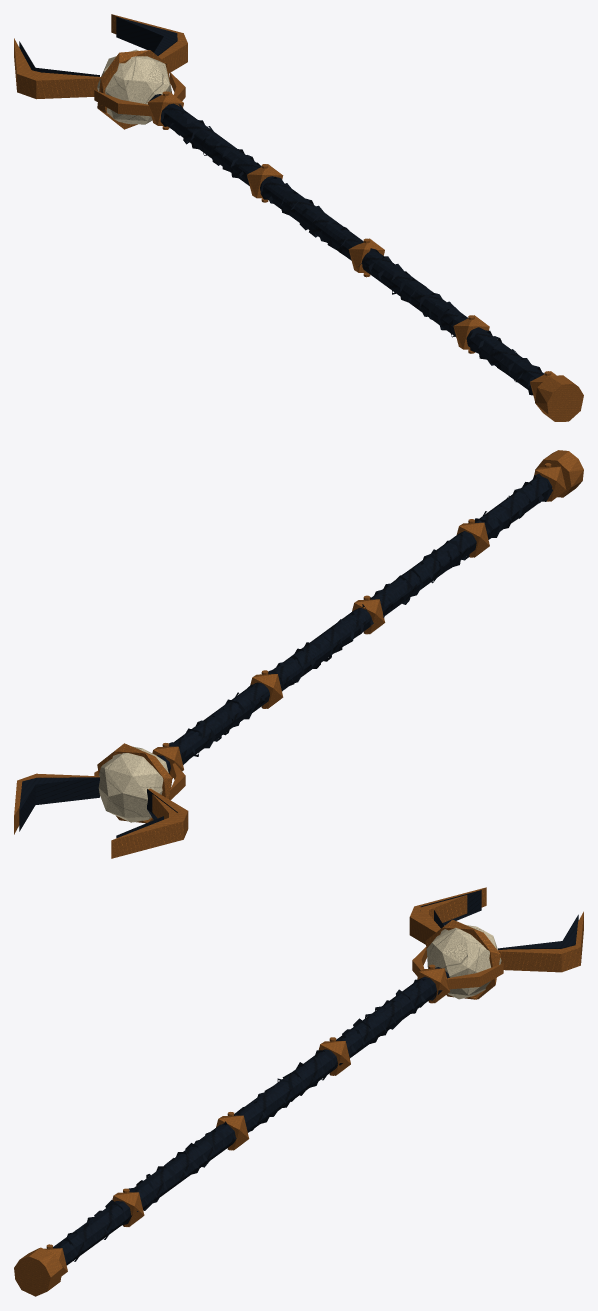
The model's file is storm-conductor-staff-ready-lod2.glb.
3 renders of one model, top to bottom at view 1: azimuth 30°, elevation 25°; view 2: azimuth 150°, elevation 25°; view 3: azimuth 330°, elevation 25°, orthographic.
Visible parts, largest first — view 1: Dark woven shaft grip, Ivory conductor pearl, Copper fork tine shell, Staff flared pommel, Dark fork tine inset.001, Copper fork tine shell.001, Orb equatorial copper cradle, Conductor cradle horn, Copper staff segmented ferrule.001, Copper staff segmented ferrule.003, Copper staff segmented ferrule.002, Copper staff segmented ferrule.004; view 2: Dark woven shaft grip, Ivory conductor pearl, Copper fork tine shell, Dark fork tine inset.001, Staff flared pommel, Orb equatorial copper cradle, Copper staff segmented ferrule.001, Copper staff segmented ferrule.003, Copper staff segmented ferrule, Copper staff segmented ferrule.002, Copper fork tine shell.001; view 3: Dark woven shaft grip, Ivory conductor pearl, Copper fork tine shell.001, Copper fork tine shell, Staff flared pommel, Orb equatorial copper cradle, Conductor cradle horn.001, Dark fork tine inset.001, Dark fork tine inset, Copper staff segmented ferrule.002, Copper staff segmented ferrule.003, Copper staff segmented ferrule.001 (+1 smaller).
Part boxes in pixels (x1,y1,x2,y2): Dark woven shaft grip: (148,94,544,392); Ivory conductor pearl: (97,49,171,124); Copper fork tine shell: (14,38,100,99); Staff flared pommel: (535,375,583,421); Dark fork tine inset.001: (116,17,177,55); Copper fork tine shell.001: (111,14,187,73); Orb equatorial copper cradle: (97,50,172,129); Conductor cradle horn: (94,90,151,116); Copper staff segmented ferrule.001: (453,315,489,349); Copper staff segmented ferrule.003: (247,164,283,198); Copper staff segmented ferrule.002: (348,238,384,273); Copper staff segmented ferrule.004: (147,91,183,125); Dark woven shaft grip: (157,476,552,773); Ivory conductor pearl: (98,746,168,822); Copper fork tine shell: (111,788,188,858); Dark fork tine inset.001: (19,777,99,831); Staff flared pommel: (535,450,583,497); Orb equatorial copper cradle: (97,743,172,823); Copper staff segmented ferrule.001: (456,522,489,557); Copper staff segmented ferrule.003: (250,674,283,708); Copper staff segmented ferrule: (534,466,566,501); Copper staff segmented ferrule.002: (352,599,385,634); Copper fork tine shell.001: (14,773,99,834); Dark woven shaft grip: (53,967,449,1265); Ivory conductor pearl: (426,925,501,999); Copper fork tine shell.001: (498,911,583,972); Copper fork tine shell: (409,887,486,944); Staff flared pommel: (14,1247,62,1296); Orb equatorial copper cradle: (425,919,500,999); Conductor cradle horn.001: (446,963,503,989); Dark fork tine inset.001: (498,914,578,949); Dark fork tine inset: (420,890,481,928); Copper staff segmented ferrule.002: (216,1115,249,1150); Copper staff segmented ferrule.003: (318,1041,350,1075); Copper staff segmented ferrule.001: (112,1192,144,1226).
Bounding box in the file's own units: 0.34 × 0.143 × 1.78.
Materials: 3 (3 with a texture image).
